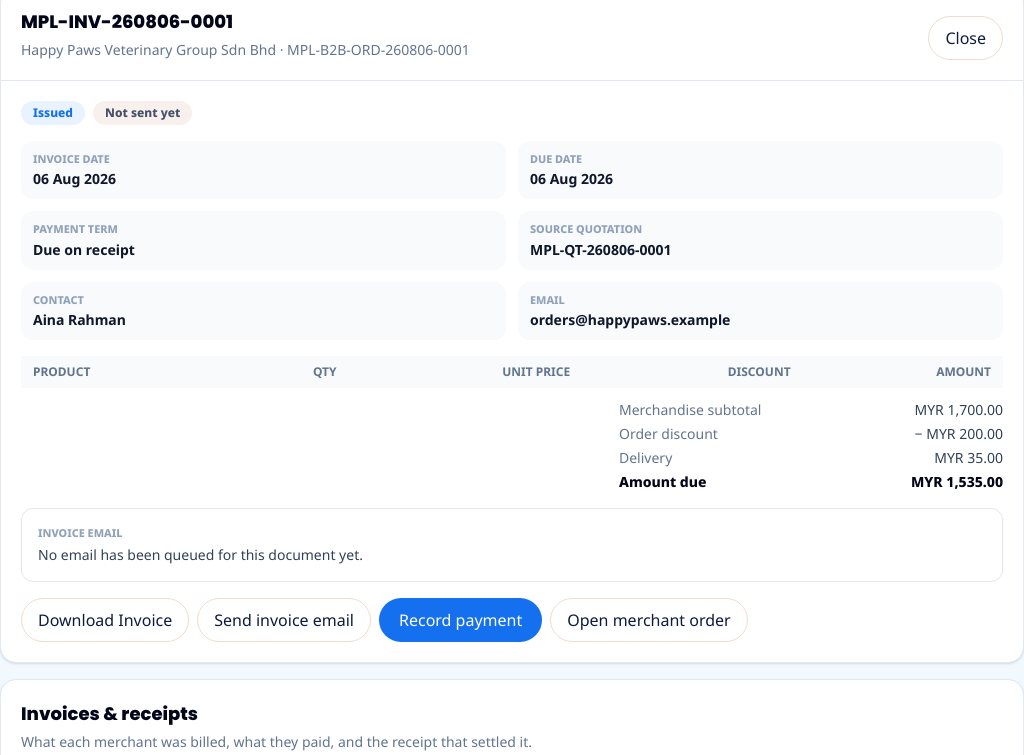
Test: Recording a payment › confirms first, and warns the step cannot be undone
What coordinates should you click on to do the following:
click the button with test id "open-record-payment"
I would click on:
 (461, 620)
Its box is 379,598 -> 542,642.
(page scrolled)
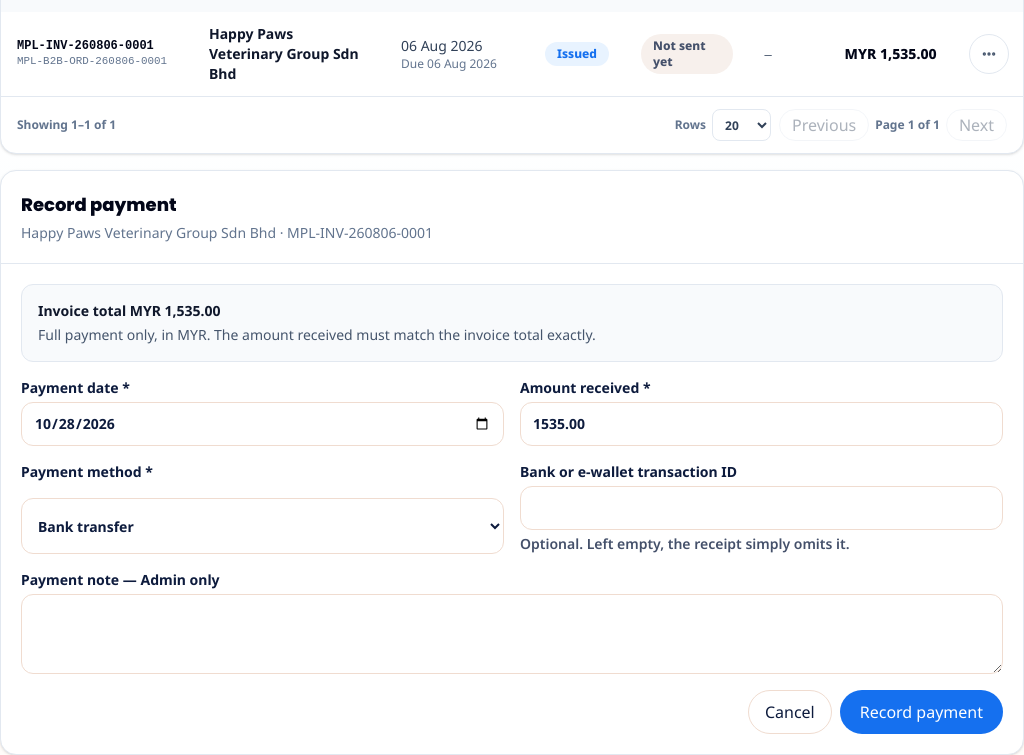
What coordinates should you click on to do the following:
click the button with test id "submit-payment"
I would click on:
 (921, 712)
Its box is 840,690 -> 1003,734.
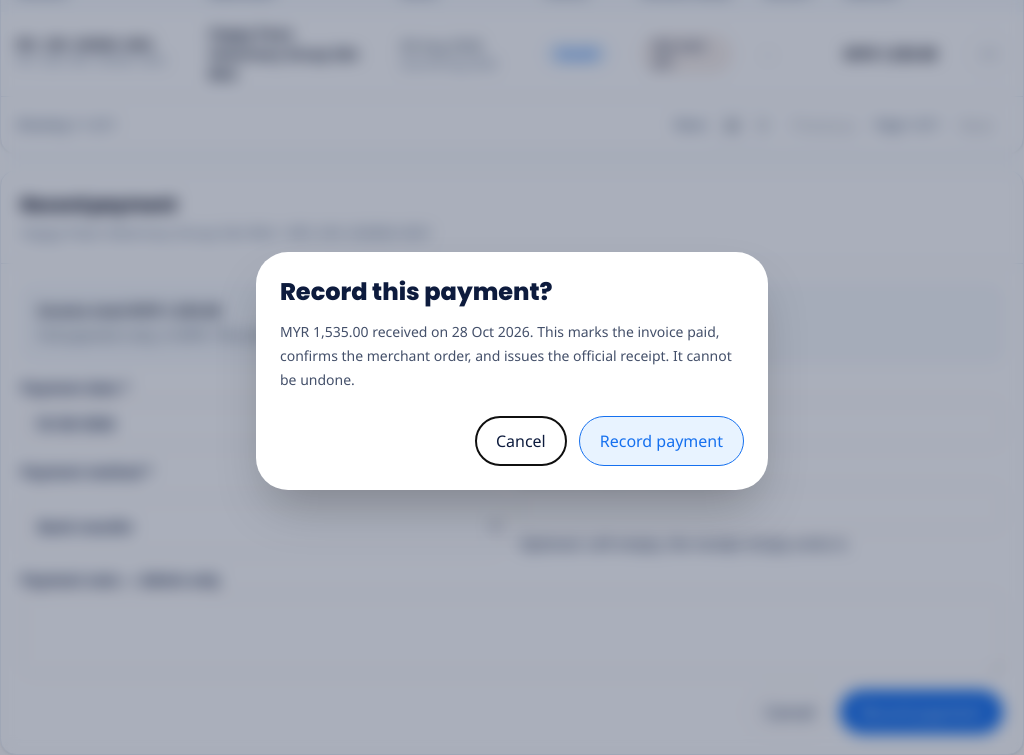
Now the text "cannot be undone" is shown, box 280,322 -> 732,389
